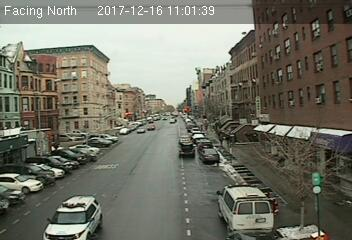car: (178, 142, 195, 157), (200, 148, 218, 162)
police: (213, 180, 274, 231), (38, 194, 105, 240)
